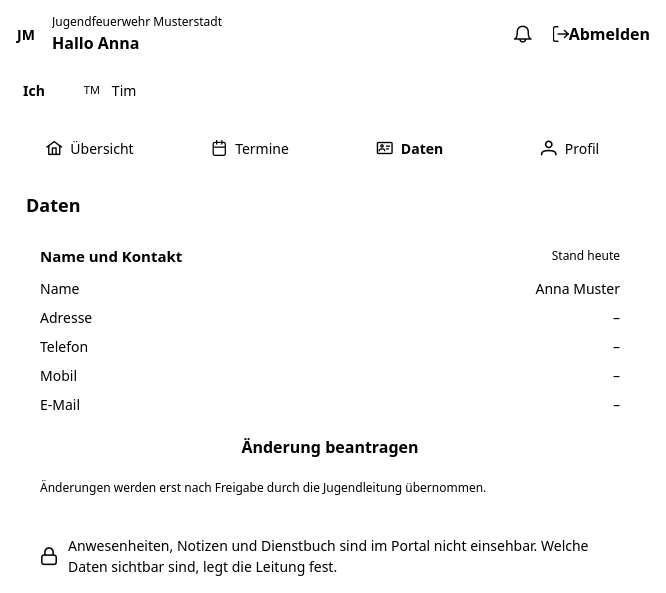
PortalLayout › renders the Daten page with the request button and lock hint
Expected: the button with class "request" is enabled, [40,424,620,468]
Expected: the button with class "request" reads "Änderung beantragen", [40,424,620,468]
Click the tab "TM Tim" at (108, 90), box [66,68,150,112]
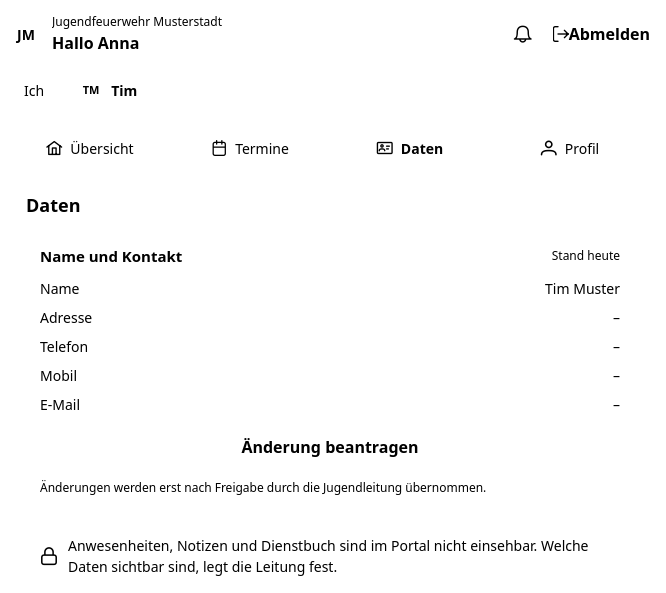
Now the text "Tim Muster" is shown, box [545,278,620,298]
